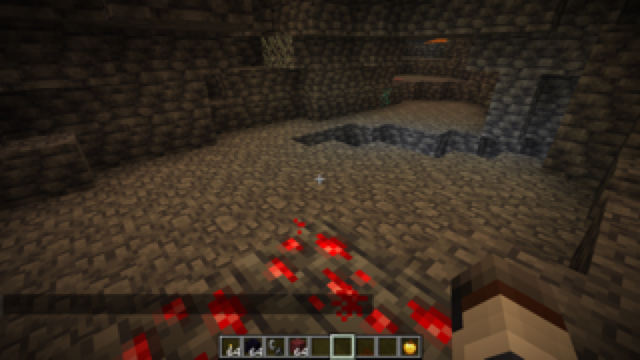diamond: (375, 85, 397, 108)
redstone: (109, 217, 474, 360)
